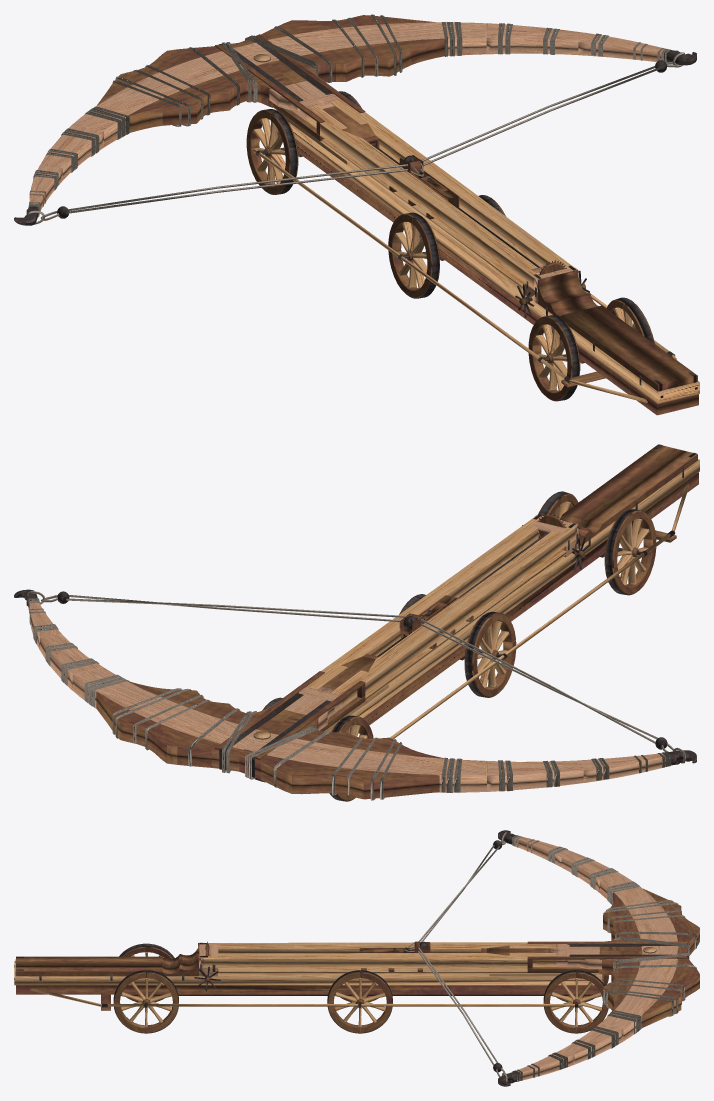
Rendered from crossbow.fbx.
The picture shows the model from 3 angles, top to bottom: view 1: azimuth 30°, elevation 25°; view 2: azimuth 150°, elevation 25°; view 3: azimuth 270°, elevation 25°; orthographic projection. The views are drawn at different scales.
Visible parts, largest first — view 1: Giant Crossbow, w2, Box03; view 2: Giant Crossbow, w2, Box03; view 3: Giant Crossbow, w2, Box03.
Part boxes in pixels (x1=…): Giant Crossbow: x1=27, y1=14, x2=699, y2=403; w2: x1=97, y1=15, x2=698, y2=415; Box03: x1=14, y1=35, x2=697, y2=401; Giant Crossbow: x1=27, y1=459, x2=699, y2=800; w2: x1=96, y1=444, x2=698, y2=800; Box03: x1=14, y1=444, x2=696, y2=801; Giant Crossbow: x1=14, y1=832, x2=696, y2=1082; w2: x1=16, y1=888, x2=699, y2=1033; Box03: x1=14, y1=830, x2=689, y2=1086.
Bounding box in the file's own units: 39.87 × 5.52 × 45.64.
5 materials, 5 textured.
